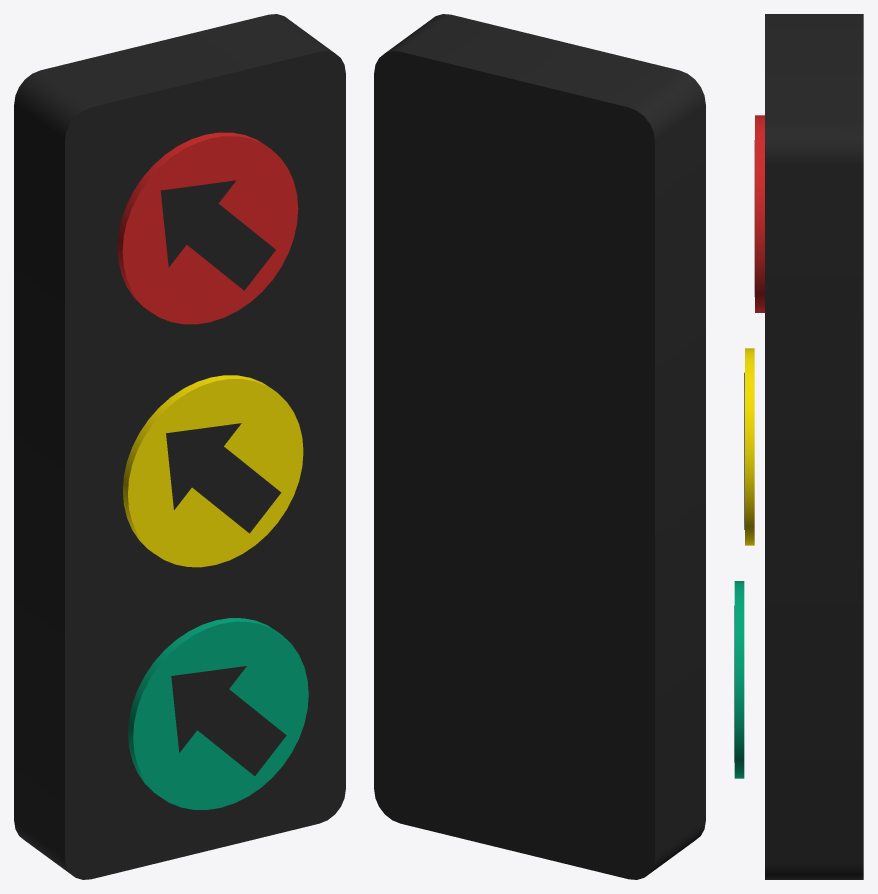
Rendered from R14dtg.glb.
The picture shows the model from 3 angles, left to right: view 1: azimuth 30°, elevation 25°; view 2: azimuth 150°, elevation 25°; view 3: azimuth 270°, elevation 25°; orthographic projection. The views are drawn at different scales.
Parts seen in each view (by area): view 1: R14dtg_r00, R14dtg_d276, R14dtg_d250, R14dtg_d302, R14dtg_s301, R14dtg_s275, R14dtg_s327; view 2: R14dtg_r00; view 3: R14dtg_r00, R14dtg_d302, R14dtg_d250, R14dtg_d276.
Part boxes in pixels (box(x1,y1,x2,y2)): R14dtg_r00: box(14, 14, 345, 879); R14dtg_d276: box(123, 375, 303, 567); R14dtg_d250: box(117, 132, 298, 324); R14dtg_d302: box(128, 618, 308, 809); R14dtg_s301: box(166, 423, 281, 533); R14dtg_s275: box(160, 180, 275, 290); R14dtg_s327: box(171, 666, 286, 775); R14dtg_r00: box(374, 14, 705, 879); R14dtg_r00: box(765, 14, 863, 879); R14dtg_d302: box(734, 581, 744, 778); R14dtg_d250: box(755, 115, 764, 312); R14dtg_d276: box(745, 348, 754, 545).
Size of the model in its own units: 0.32 by 0.84 by 0.1312.
